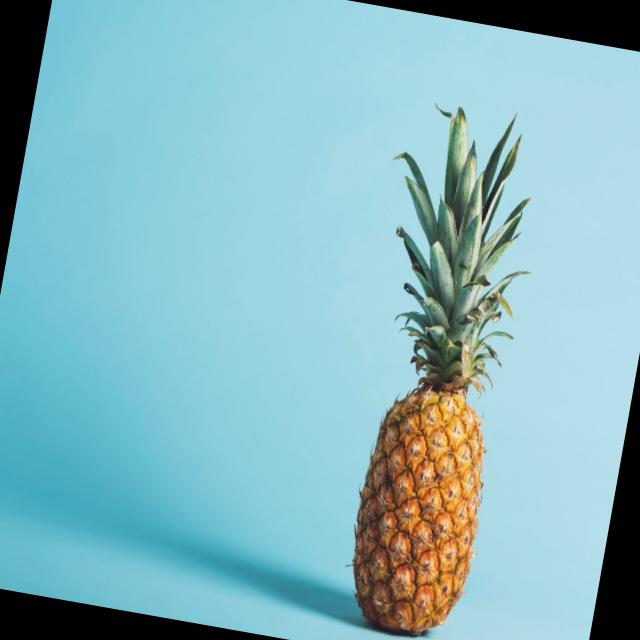pineapple: (322, 298, 517, 640)
